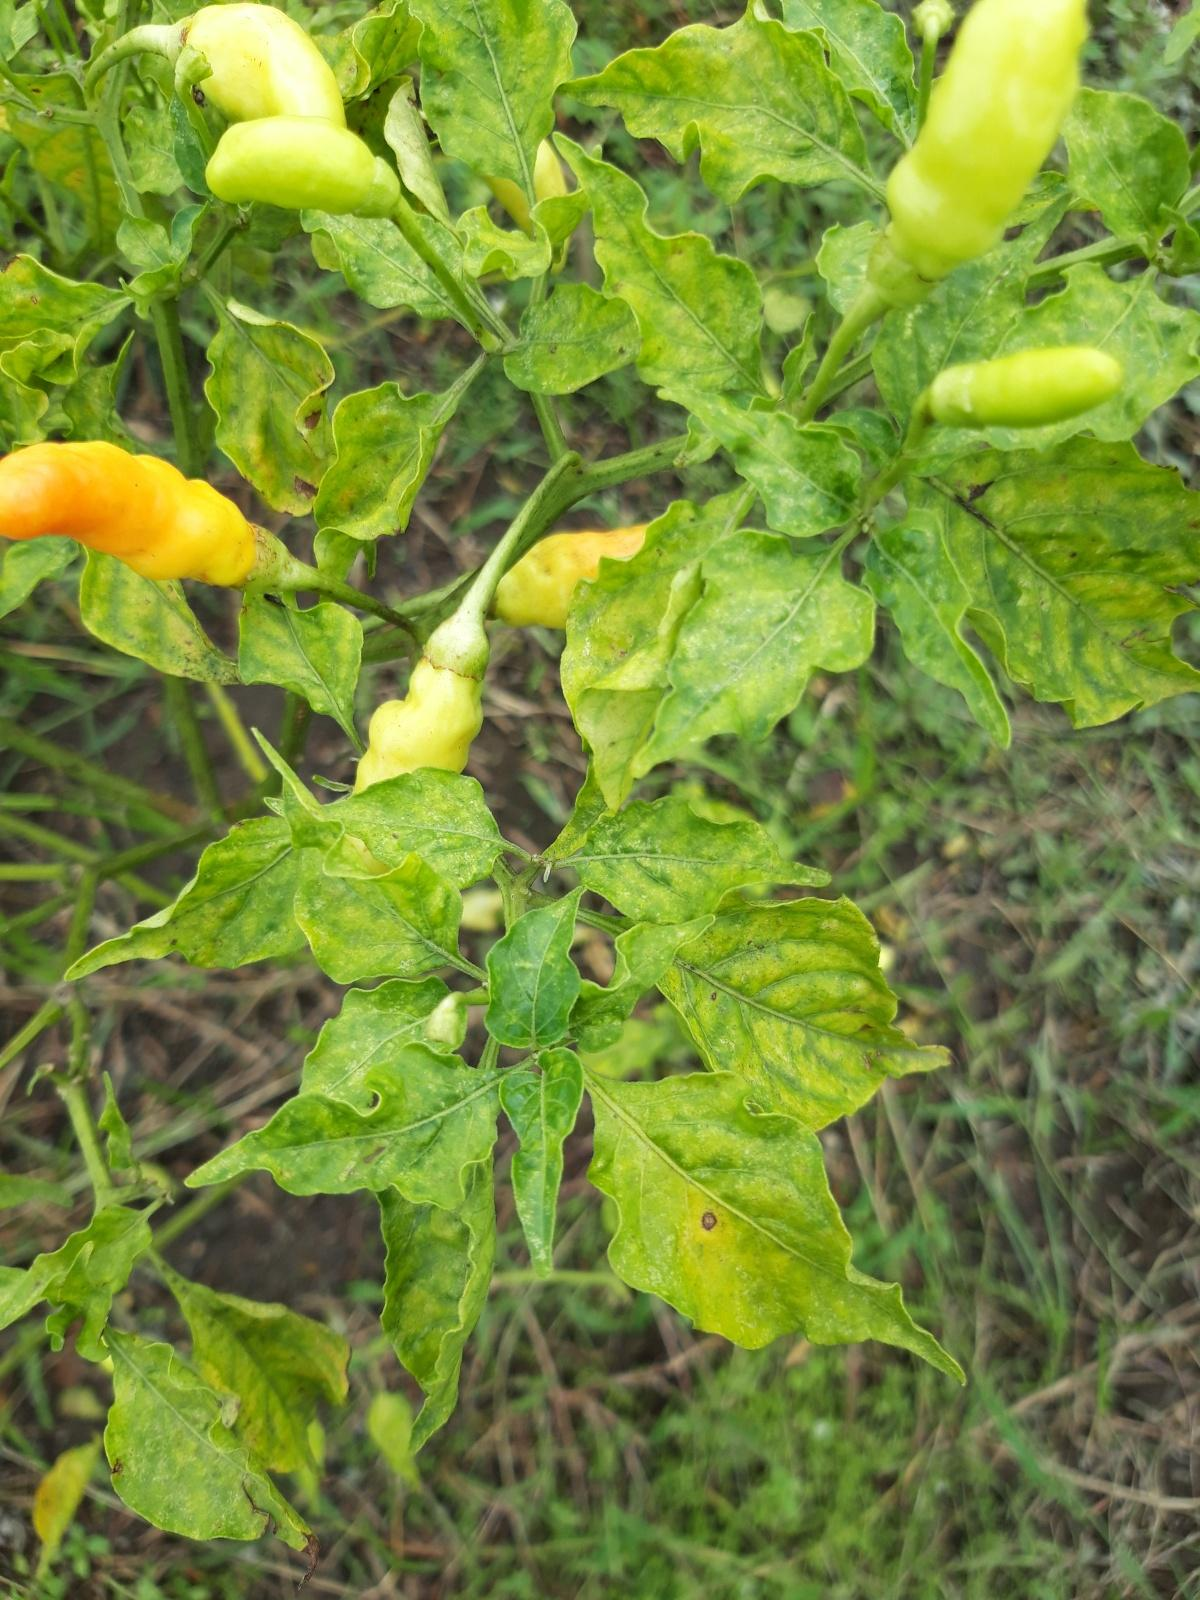cabai_normal: (881, 0, 1094, 282), (4, 438, 262, 590), (200, 113, 406, 218), (930, 344, 1123, 430), (353, 648, 476, 781), (495, 530, 652, 626)
